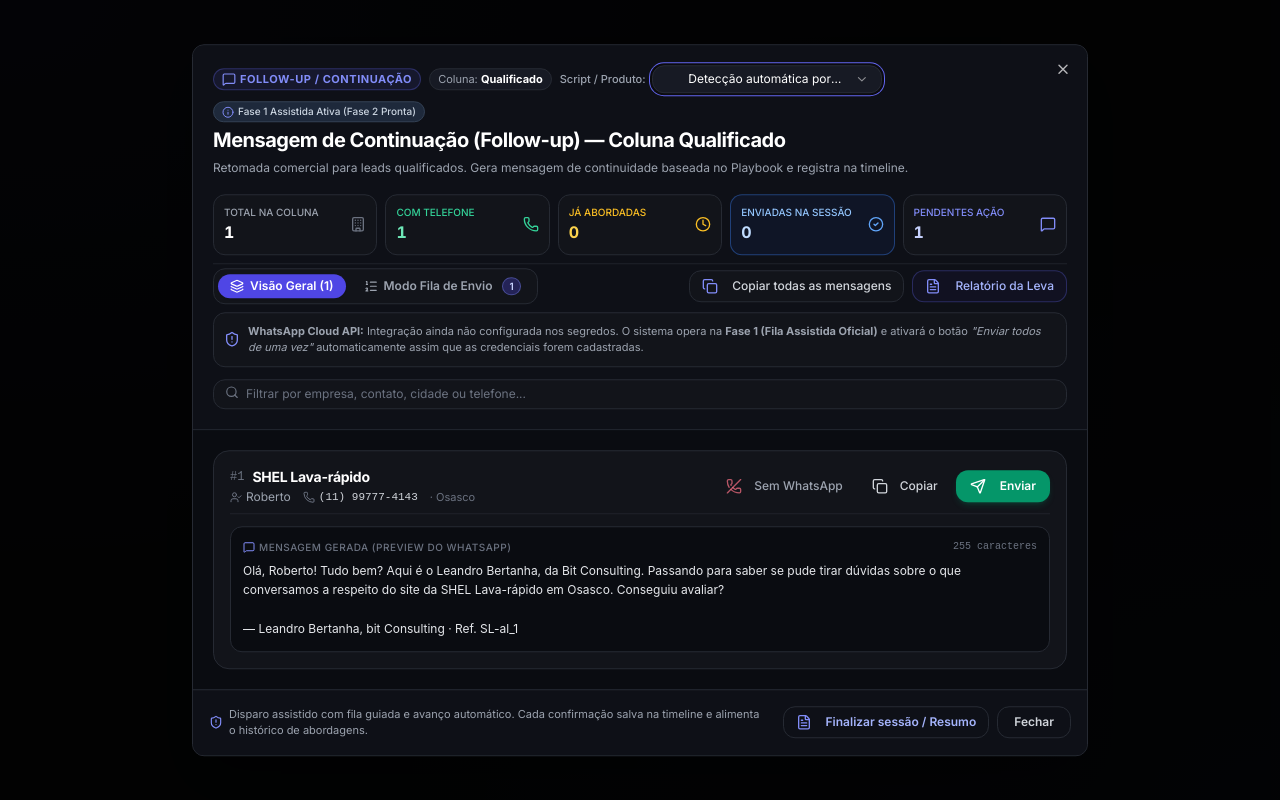
Test: BatchWhatsAppModal — Status Enviada em Azul › funciona de forma idêntica na coluna Qualificado (followup)
Click the button with test id "btn-send-opp_qual_1". click: (1003, 486)
box: [956,470,1050,502]
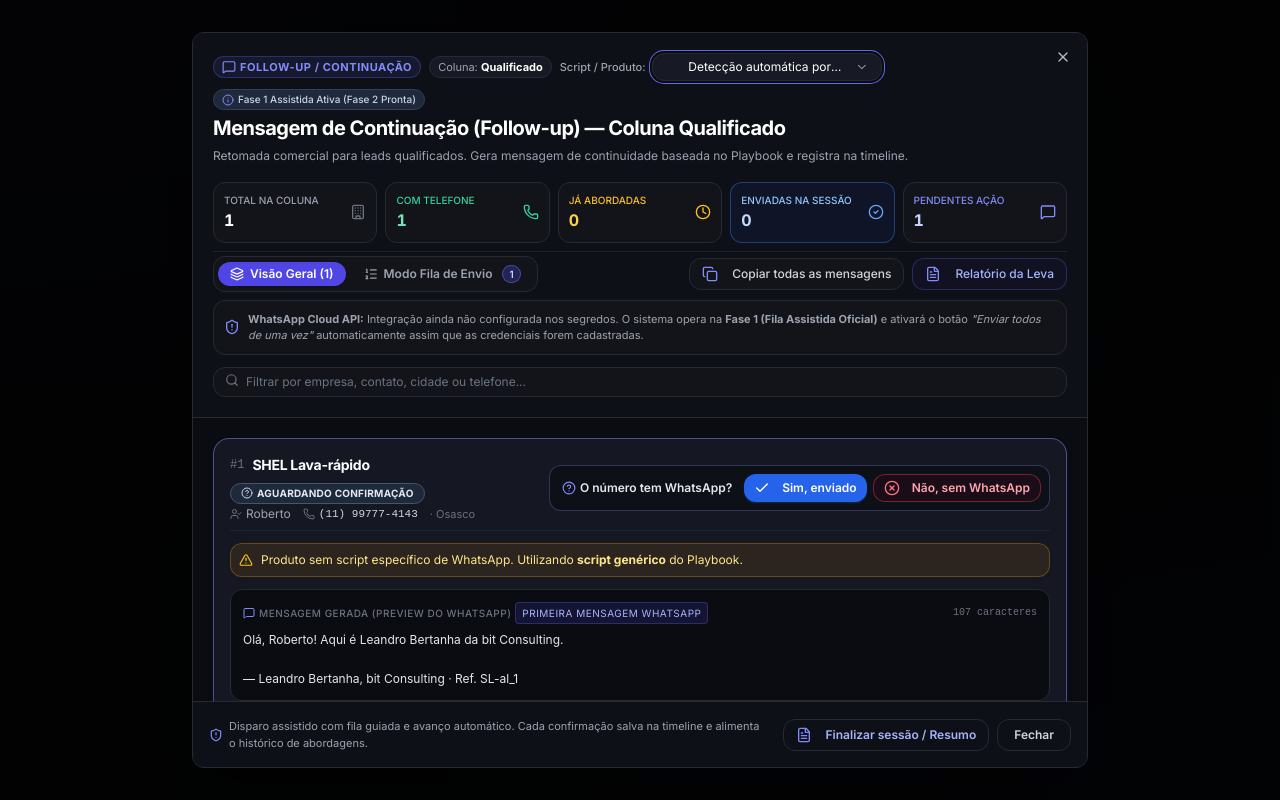
expect the element with test id "status-badge-aguardando-opp_qual_1" is shown: met, box [230,482,425,504]
expect the element with test id "status-badge-aguardando-opp_qual_1" reads "Aguardando confirmação": met, box [257,486,414,498]
# Clica em "Sim, enviado"
Click the button with test id "btn-confirm-yes-opp_qual_1". click: (805, 488)
box: [744,474,867,502]
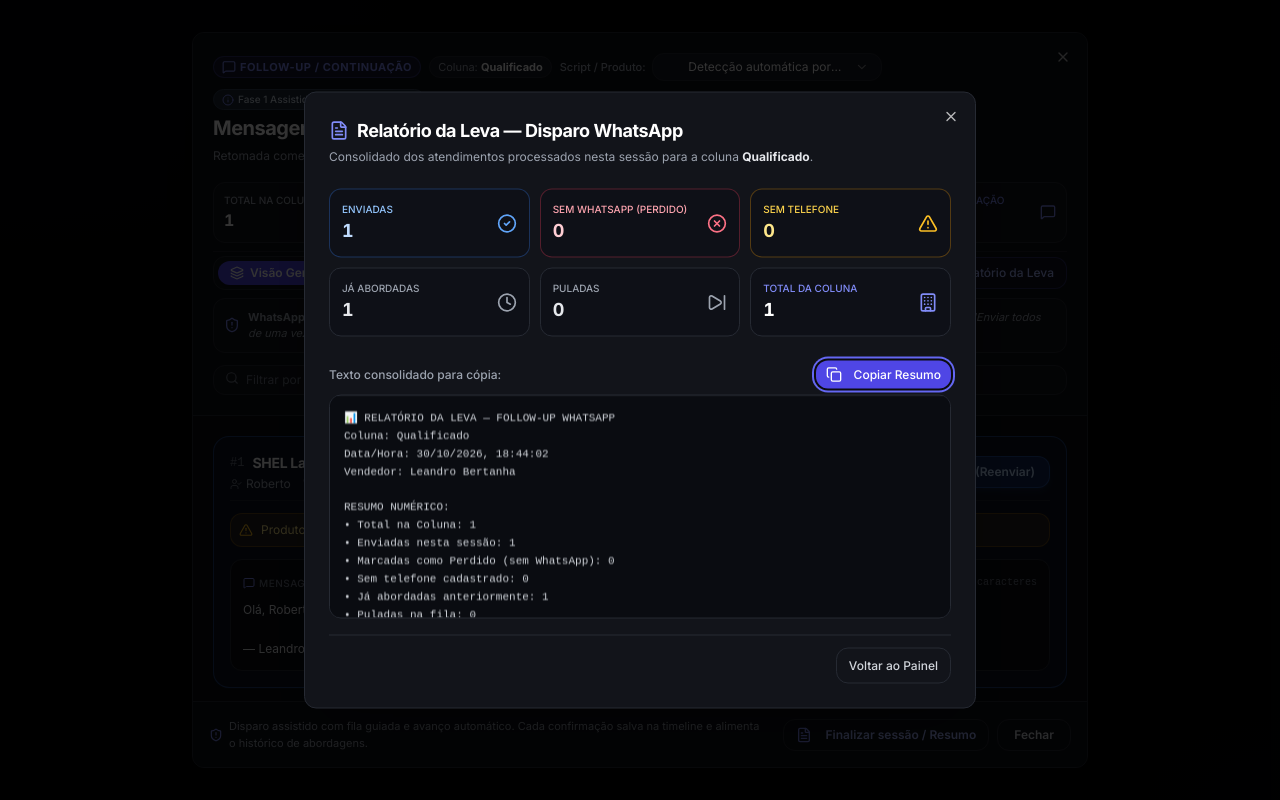
expect the element with test id "status-badge-enviada-opp_qual_1" is shown: met, box [378,452,459,474]
expect the element with test id "status-badge-enviada-opp_qual_1" reads "Enviada": met, box [403,456,450,468]
expect the button with test id "btn-send-opp_qual_1" reads "Enviada (Reenviar)": met, box [881,456,1050,488]
